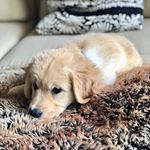puppy: (3, 30, 144, 123)
